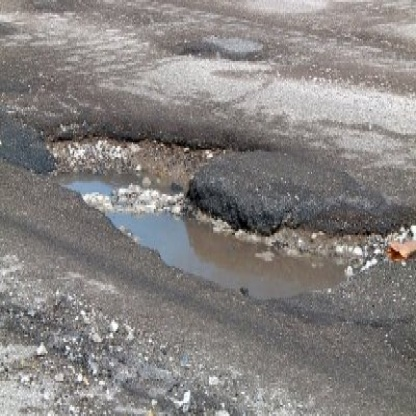pothole: (2, 104, 415, 329)
